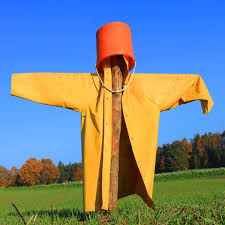person-like: (8, 19, 216, 216)
